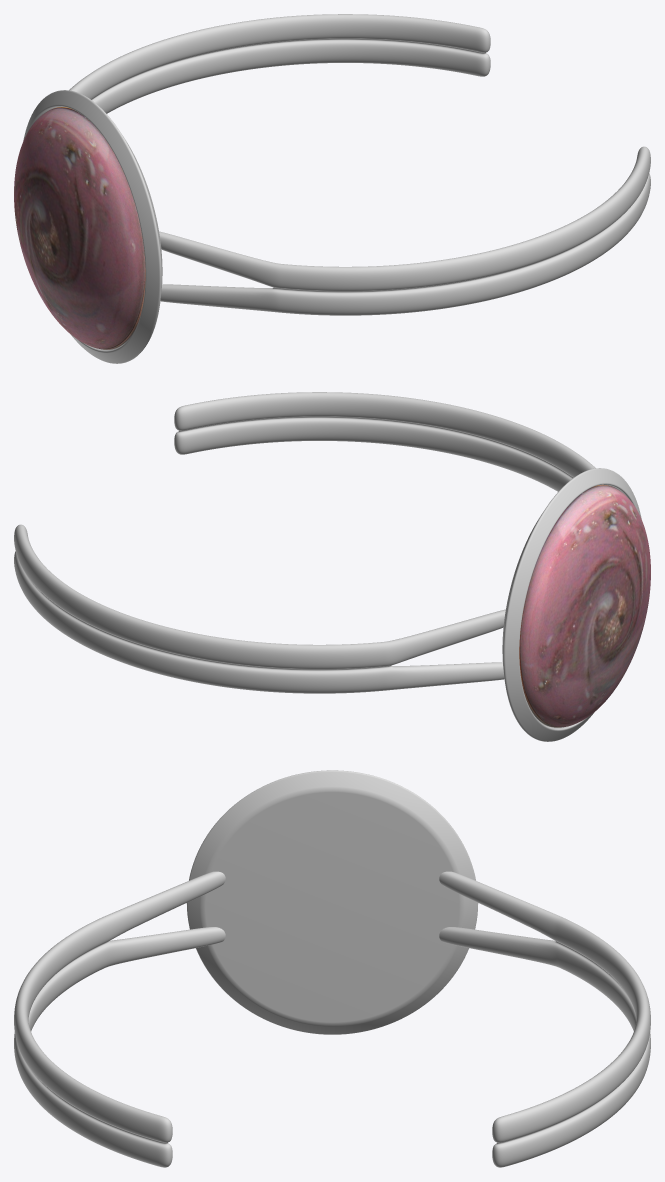
The picture shows the model from 3 angles, top to bottom: view 1: azimuth 30°, elevation 25°; view 2: azimuth 150°, elevation 25°; view 3: azimuth 270°, elevation 25°; orthographic projection. The views are drawn at different scales.
Parts seen in each view (by area): view 1: bijou; view 2: bijou; view 3: bijou.
Part boxes in pixels (x1,y1,x2,y2): bijou: [14, 14, 650, 363]; bijou: [14, 392, 650, 741]; bijou: [14, 770, 650, 1167].
Bounding box in the file's own units: 12.87 × 5.99 × 13.09.
2 materials, 1 textured.
